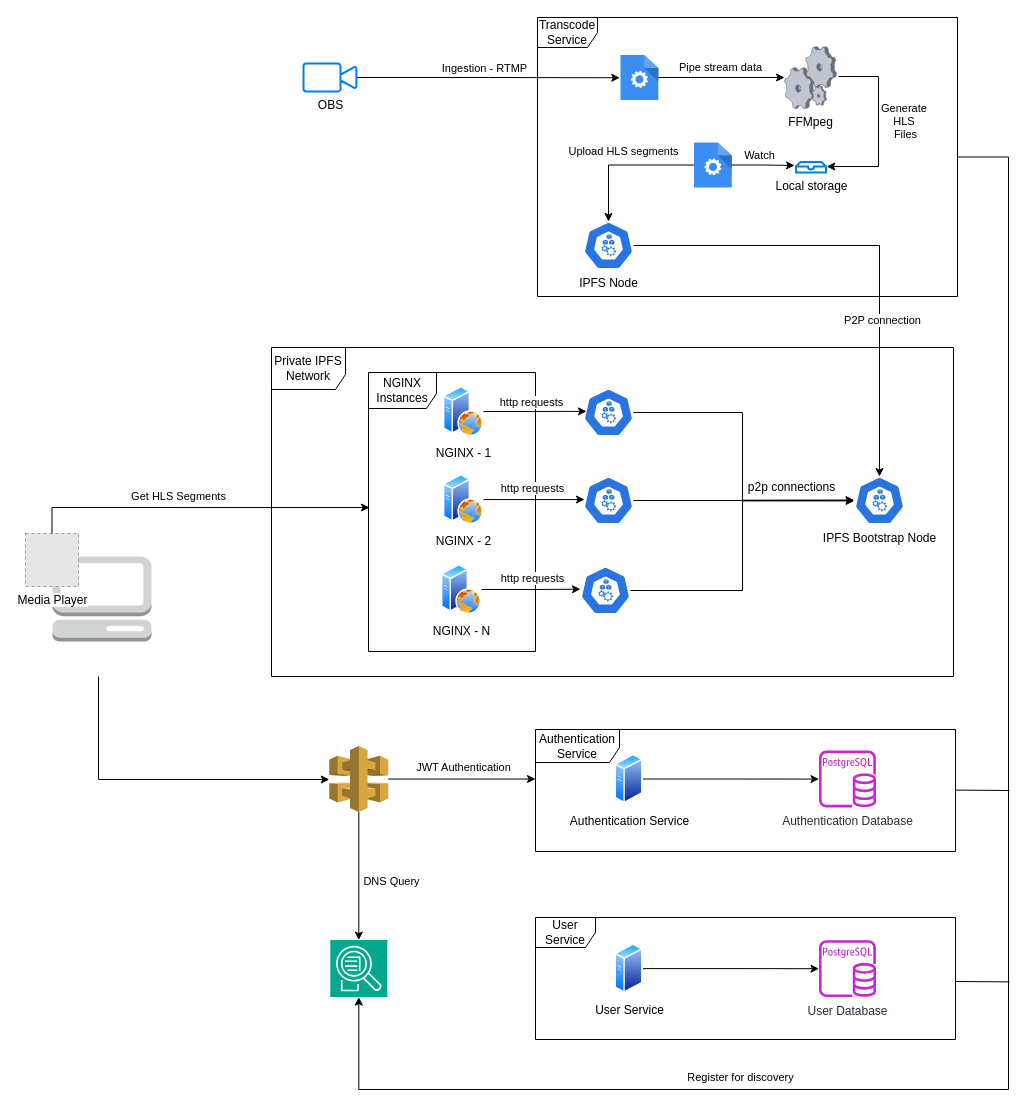
This 1034x1115 diagram has some shape labels left out. Grey dashed boxes stand in for pictures. The shapes that lost their labels are listed below. From the top down, each one's box as (x1, y1, x2, y2) in pixels, then its label:
(620, 54, 658, 100): RTMP Server
(694, 142, 731, 187): File Watcher
(582, 388, 634, 436): IPFS Node 1
(582, 476, 634, 524): IPFS Node 2
(52, 556, 152, 642): Client
(580, 566, 630, 614): IPFS Node N
(328, 745, 388, 812): Kong API Gateway
(329, 939, 387, 997): Service Discovery (consul)
